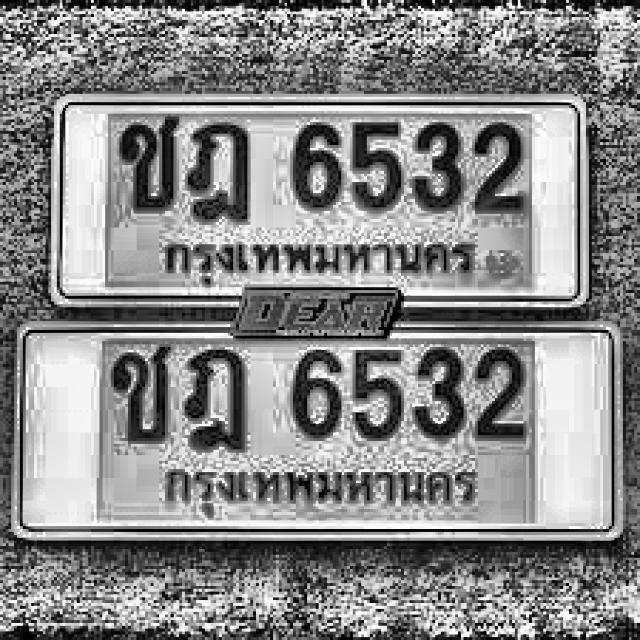license-plate: (15, 324, 621, 537), (52, 96, 592, 304)
